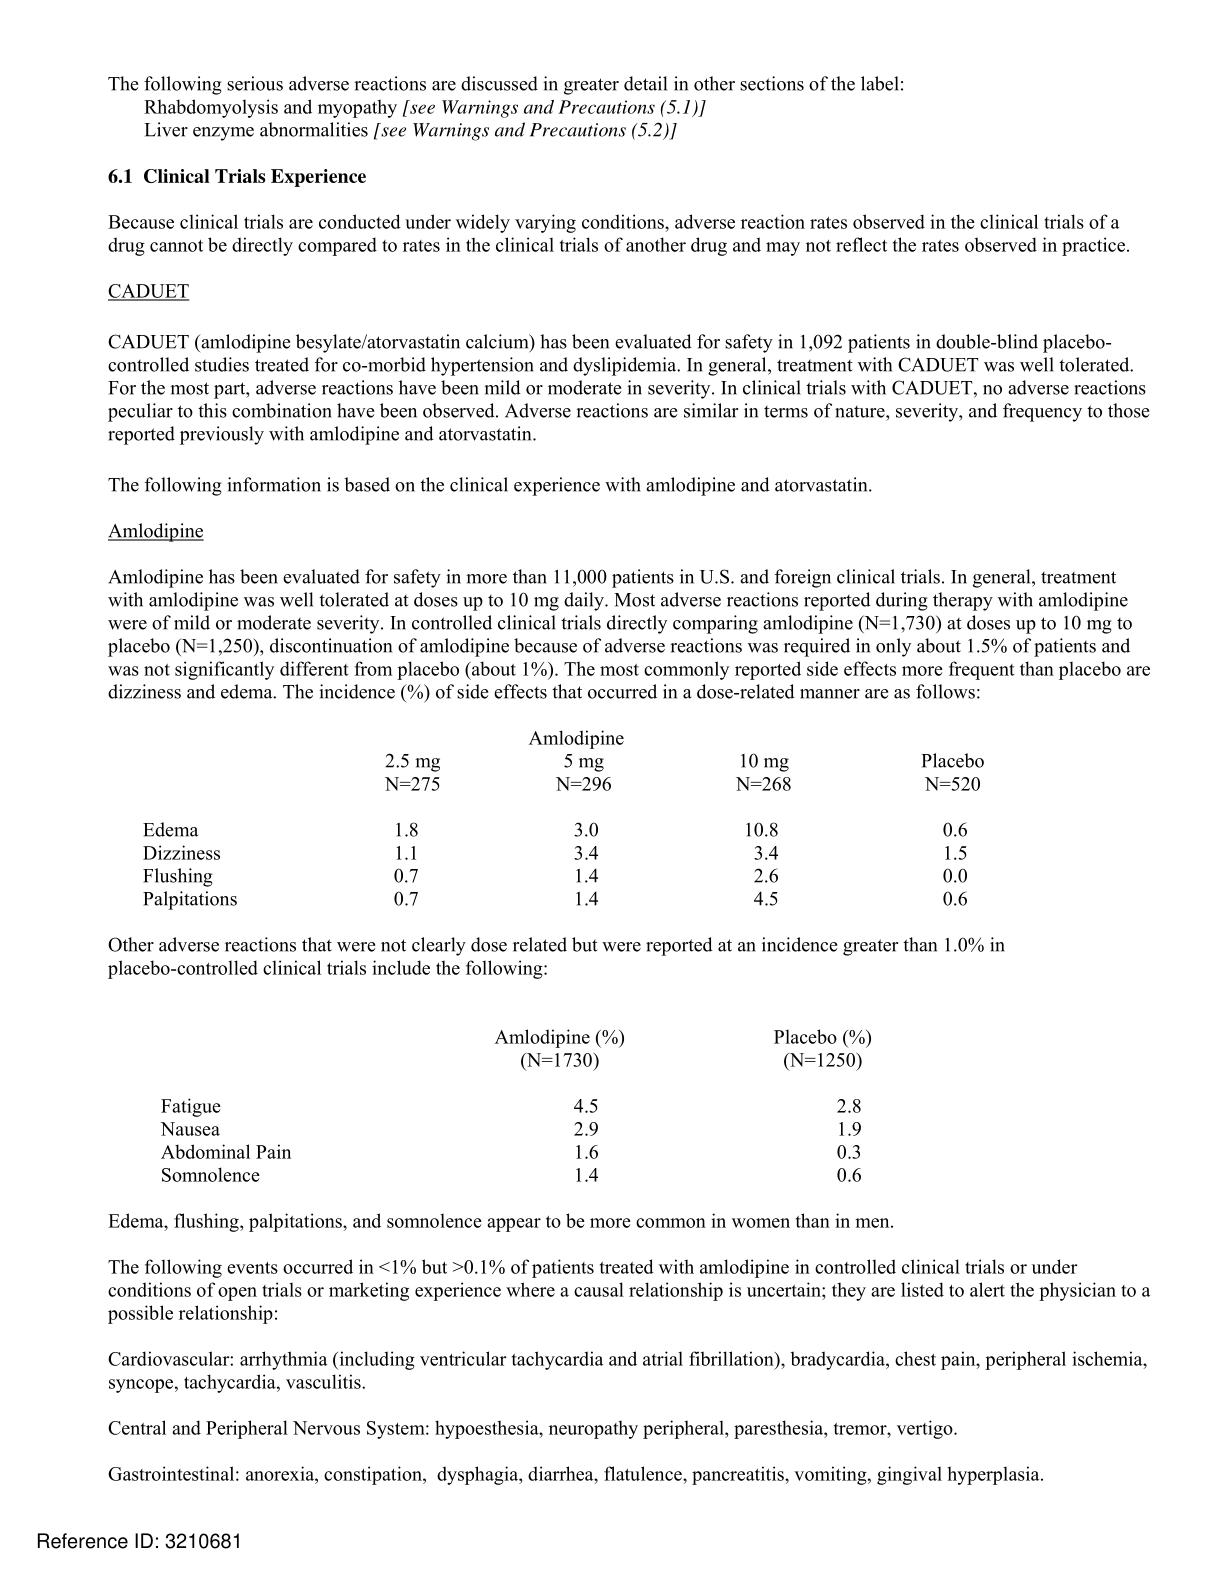nolines: (141, 750, 987, 908), (159, 1029, 874, 1185)
